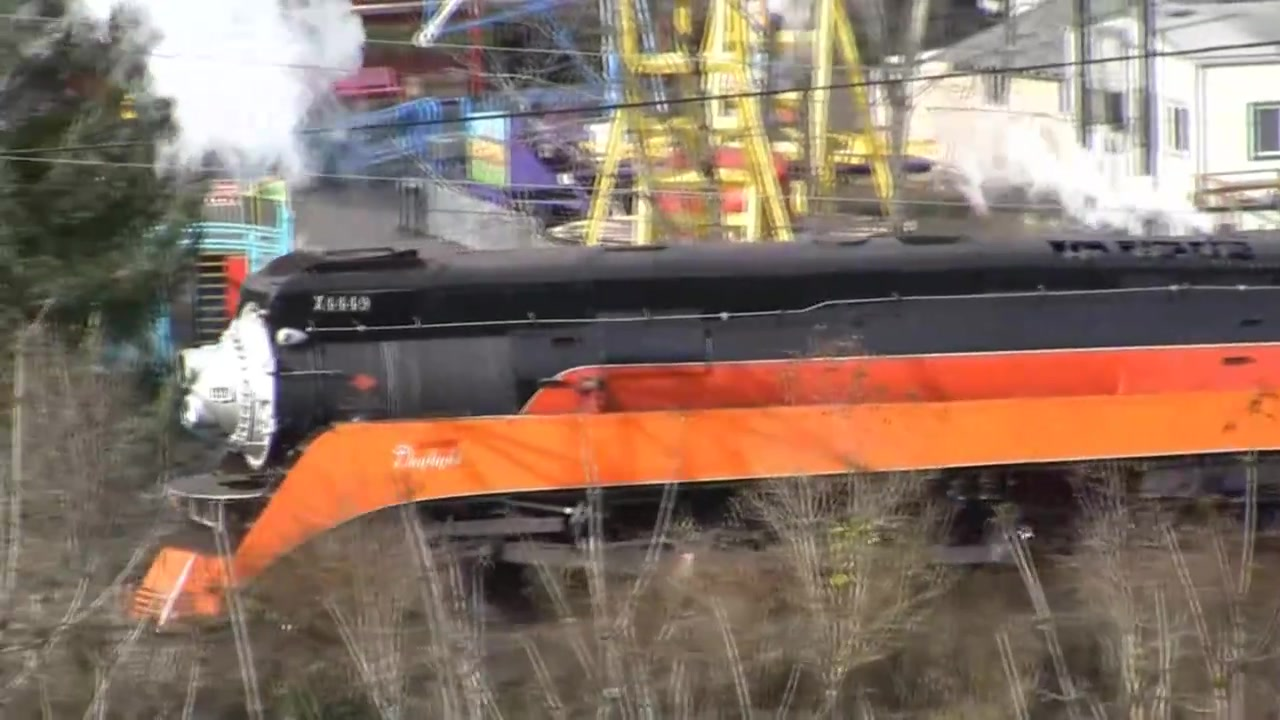train: (128, 231, 1280, 640)
